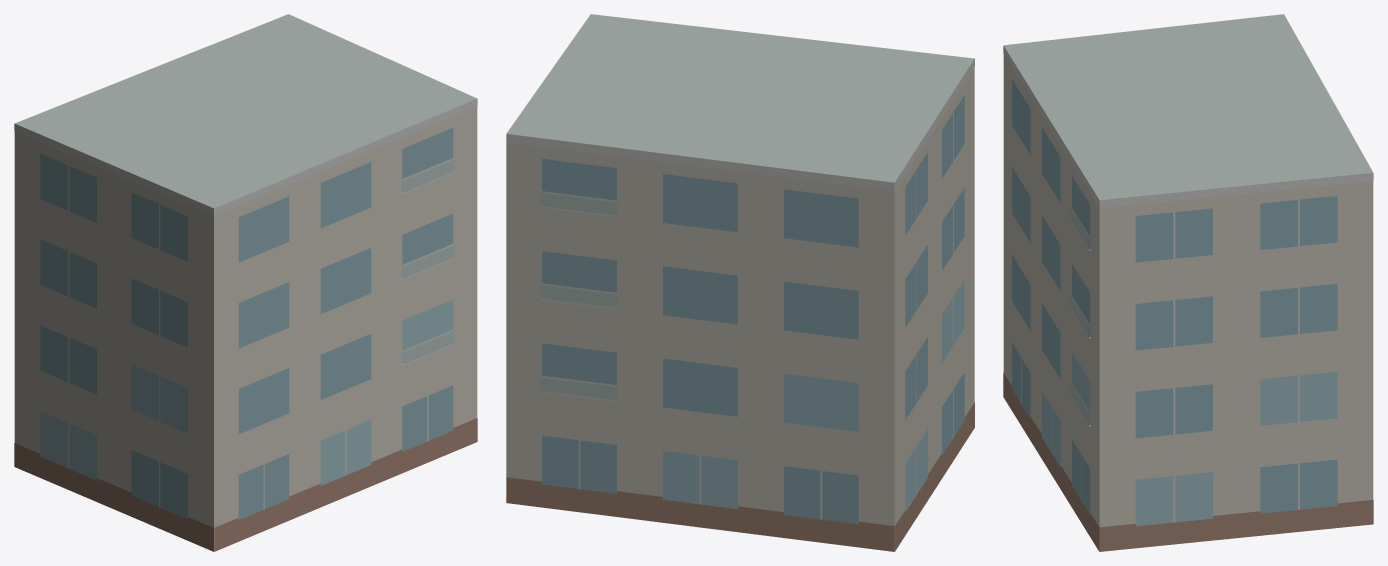
The model's file is survey-upis-32898926.glb.
The picture shows the model from 3 angles, left to right: view 1: azimuth 30°, elevation 25°; view 2: azimuth 150°, elevation 25°; view 3: azimuth 270°, elevation 25°; orthographic projection. The views are drawn at different scales.
Visible parts, largest first — view 1: survey-upis-32898926.tmp; view 2: survey-upis-32898926.tmp; view 3: survey-upis-32898926.tmp.
Part boxes in pixels (x1,y1,x2,y2): survey-upis-32898926.tmp: [14, 14, 477, 551]; survey-upis-32898926.tmp: [506, 14, 974, 551]; survey-upis-32898926.tmp: [1003, 14, 1373, 551].
Bounding box in the file's own units: 12.13 × 10.67 × 10.19.
